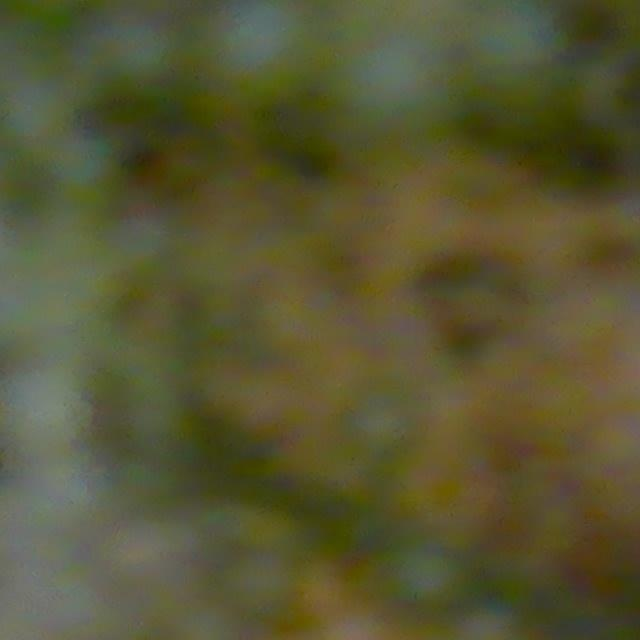SeaGrape: (447, 0, 563, 110), (205, 0, 321, 106), (98, 13, 186, 97)
